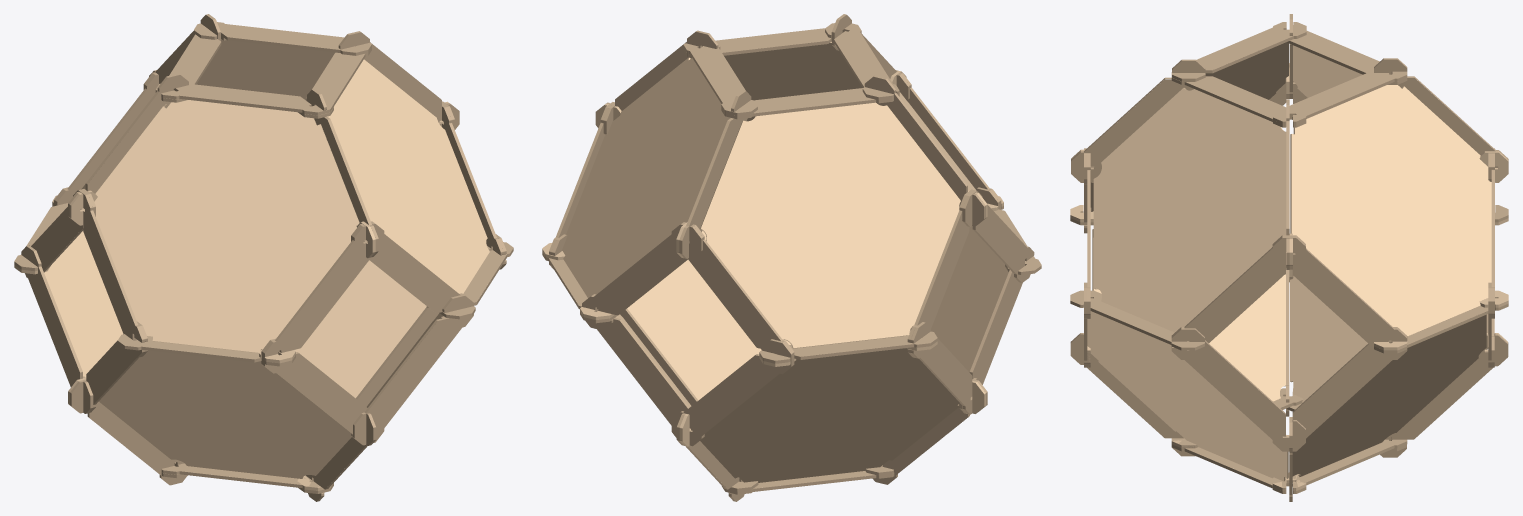
Rendered from truncated-octahedron-detail.glb.
The picture shows the model from 3 angles, left to right: view 1: azimuth 30°, elevation 25°; view 2: azimuth 150°, elevation 25°; view 3: azimuth 270°, elevation 25°; orthographic projection. The views are drawn at different scales.
Visible parts, largest first — view 1: Hex-1, NODE PARTS, Hex-2; view 2: Hex-2, Hex-1, NODE PARTS; view 3: Hex-1, Hex-2, NODE PARTS.
Boxes of the visible parts, x1,y1,x2,y2 form: Hex-1: [44, 39, 443, 407]; NODE PARTS: [14, 14, 513, 501]; Hex-2: [81, 59, 489, 478]; Hex-2: [615, 42, 1008, 407]; Hex-1: [562, 57, 975, 482]; NODE PARTS: [542, 14, 1041, 501]; Hex-1: [1087, 42, 1491, 481]; Hex-2: [1092, 45, 1486, 476]; NODE PARTS: [1070, 14, 1508, 501].
Size of the model in its own units: 2.49 by 2.49 by 2.49.
